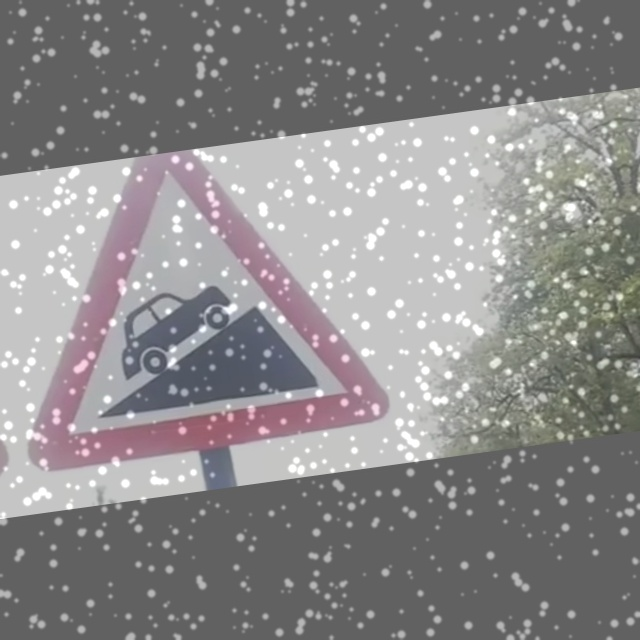Steep_Ascent: (10, 148, 385, 467)
